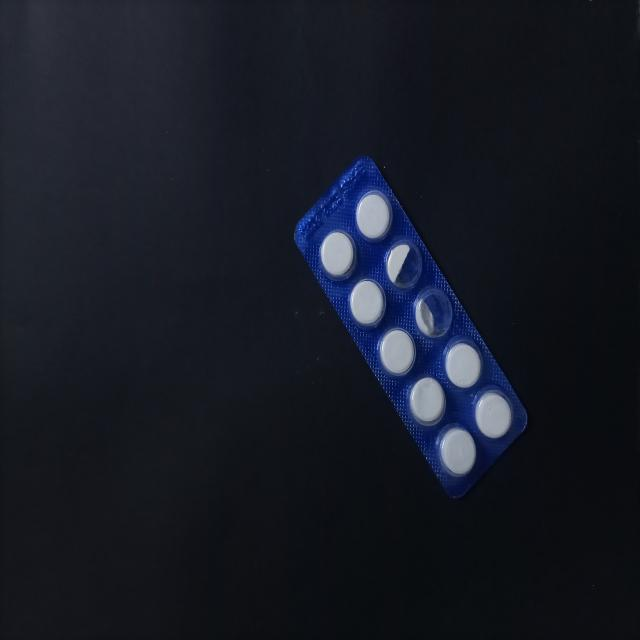defect: (413, 287, 455, 342), (383, 237, 422, 289)
